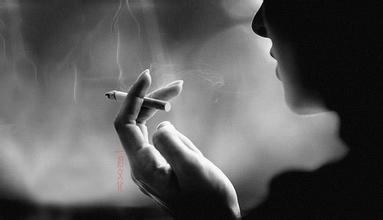smoke: (104, 90, 171, 113)
